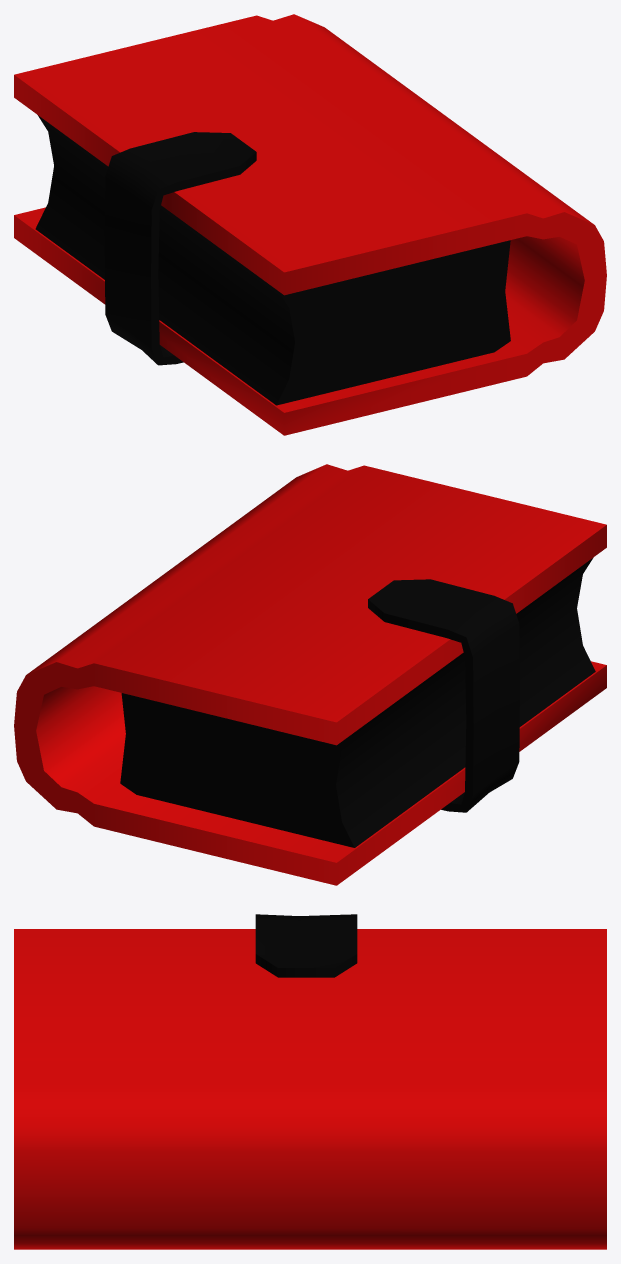
Rendered from Book_G.fbx.
3 views of the same model, one above another, from view 1: azimuth 30°, elevation 25°; view 2: azimuth 150°, elevation 25°; view 3: azimuth 270°, elevation 25° (orthographic). The views are drawn at different scales.
Parts seen in each view (by area): view 1: U_Book_G; view 2: U_Book_G; view 3: U_Book_G.
Part boxes in pixels (box(x1,y1,x2,y2)): U_Book_G: box(14, 14, 606, 435); U_Book_G: box(14, 464, 606, 885); U_Book_G: box(14, 914, 606, 1249).
Bounding box in the file's own units: 43.19 × 21.9 × 58.45.
